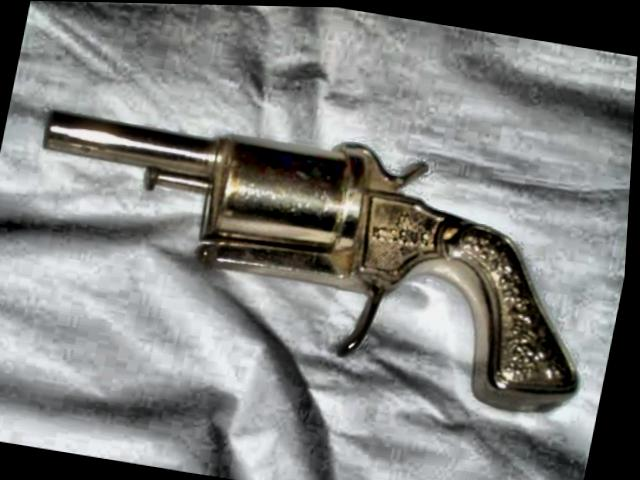pistol: (2, 90, 625, 417)
